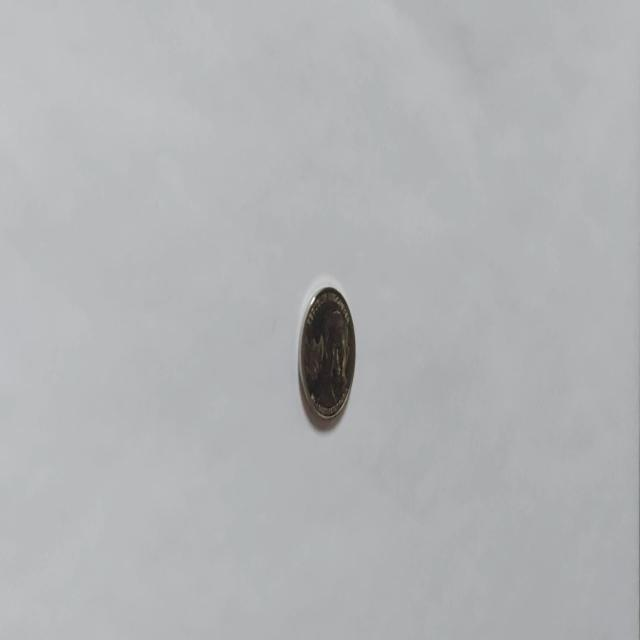seribu rupiah koin: (296, 282, 356, 426)
